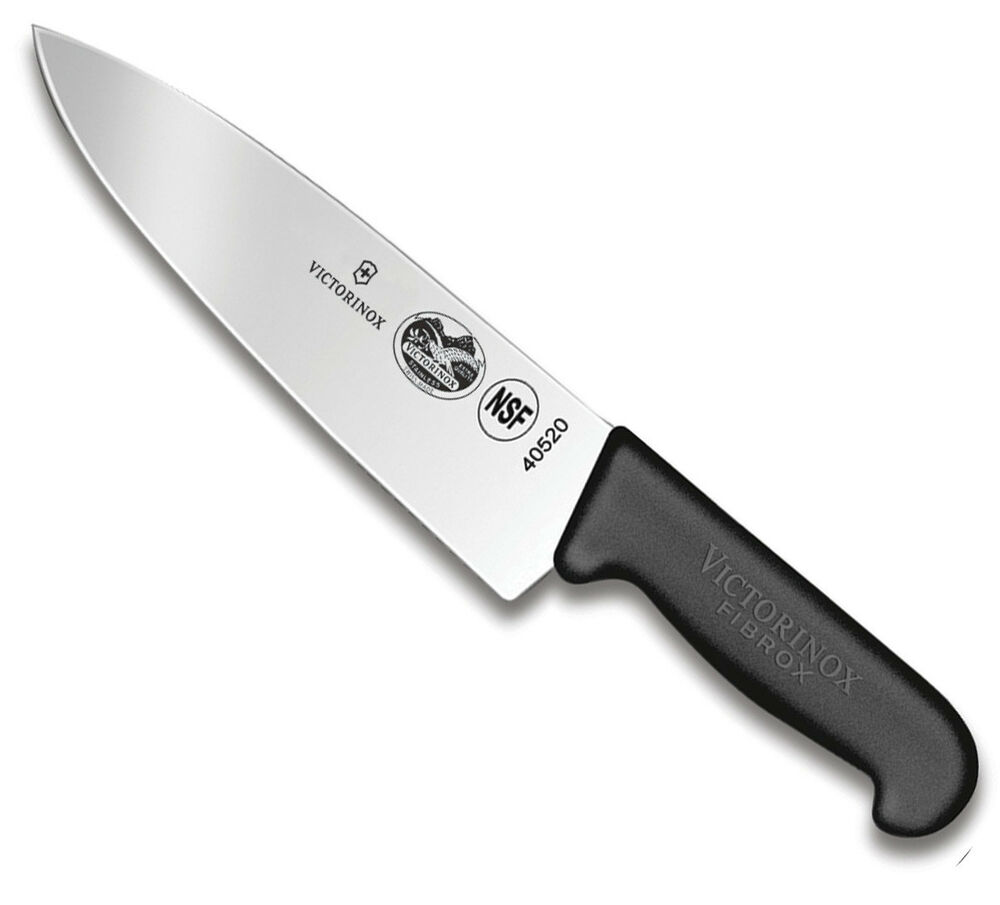knife: (24, 22, 979, 841)
